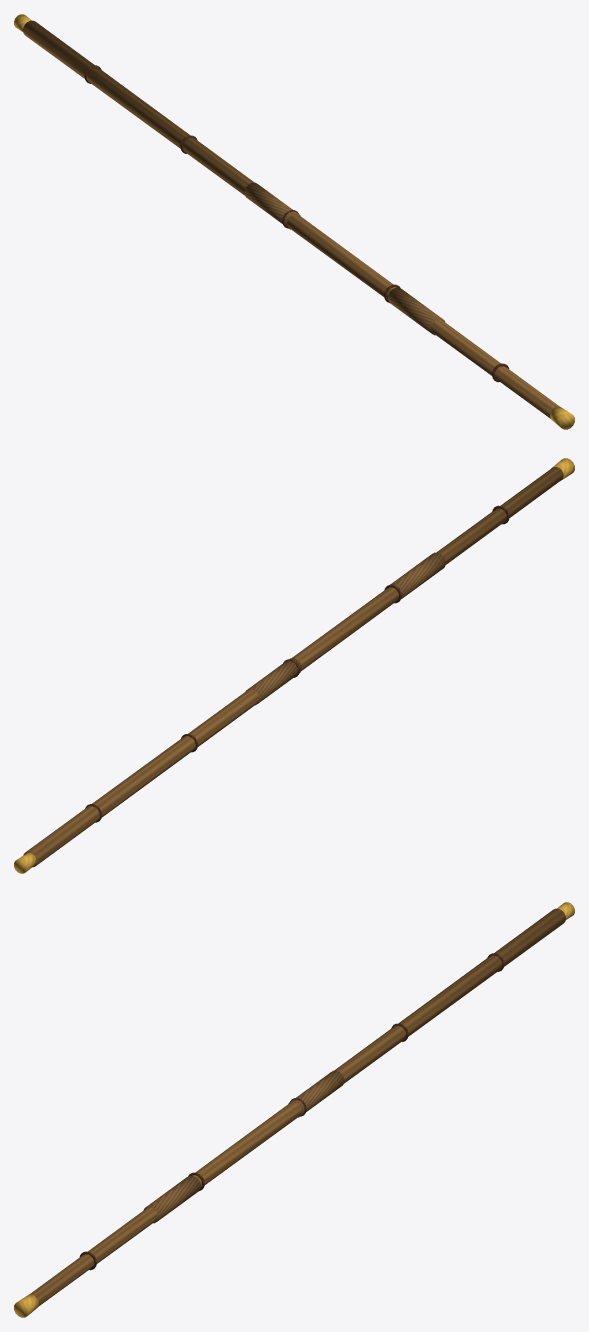
The model's file is kalari_kettukari.glb.
3 views of the same model, one above another, from view 1: azimuth 30°, elevation 25°; view 2: azimuth 150°, elevation 25°; view 3: azimuth 330°, elevation 25° (orthographic).
Parts seen in each view (by area): view 1: Kalari_Kettukari_Staff; view 2: Kalari_Kettukari_Staff; view 3: Kalari_Kettukari_Staff.
Boxes of the visible parts, x1=… form: Kalari_Kettukari_Staff: x1=14, y1=14, x2=574, y2=429; Kalari_Kettukari_Staff: x1=14, y1=458, x2=574, y2=873; Kalari_Kettukari_Staff: x1=14, y1=902, x2=574, y2=1317.
Size of the model in its own units: 0.0336 by 0.0336 by 1.82.
4 materials, 4 textured.
